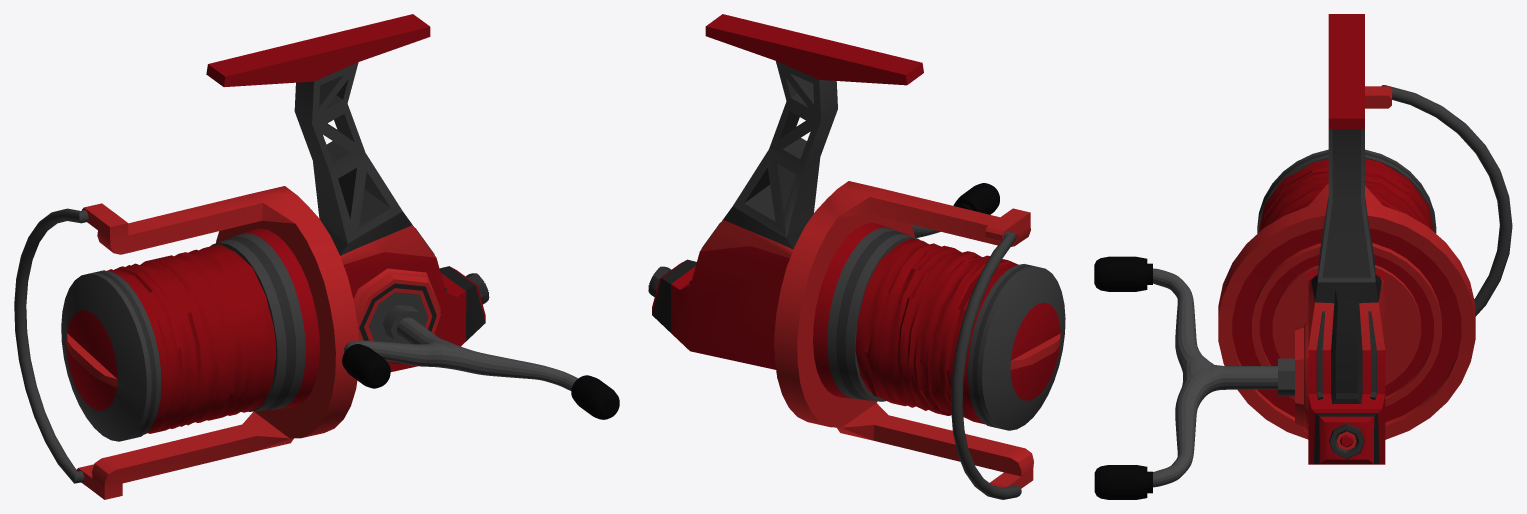
File: kolowrotek tier 6.fbx
3 views of the same model, side by side, from view 1: azimuth 30°, elevation 25°; view 2: azimuth 150°, elevation 25°; view 3: azimuth 270°, elevation 25° (orthographic). The views are drawn at different scales.
Visible parts, largest first — view 1: rel tier 5.001, Cube.019, Cube.017, Plane.001; view 2: rel tier 5.001, Cube.019, Cube.017, Plane.001; view 3: Cube.019, rel tier 5.001, Plane.001, Cube.017.
Boxes of the visible parts, left/top/right/bottom form: rel tier 5.001: left=61, top=14, right=489, bottom=441; Cube.019: left=14, top=186, right=358, bottom=499; Cube.017: left=107, top=244, right=275, bottom=434; Plane.001: left=342, top=317, right=619, bottom=419; rel tier 5.001: left=648, top=14, right=1065, bottom=430; Cube.019: left=774, top=181, right=1033, bottom=499; Cube.017: left=855, top=238, right=1018, bottom=424; Plane.001: left=911, top=183, right=999, bottom=237; Cube.019: left=1218, top=85, right=1512, bottom=439; rel tier 5.001: left=1257, top=14, right=1436, bottom=464; Plane.001: left=1094, top=256, right=1277, bottom=499; Cube.017: left=1258, top=159, right=1434, bottom=232.
Size of the model in its own units: 2624 by 2374 by 2165.
